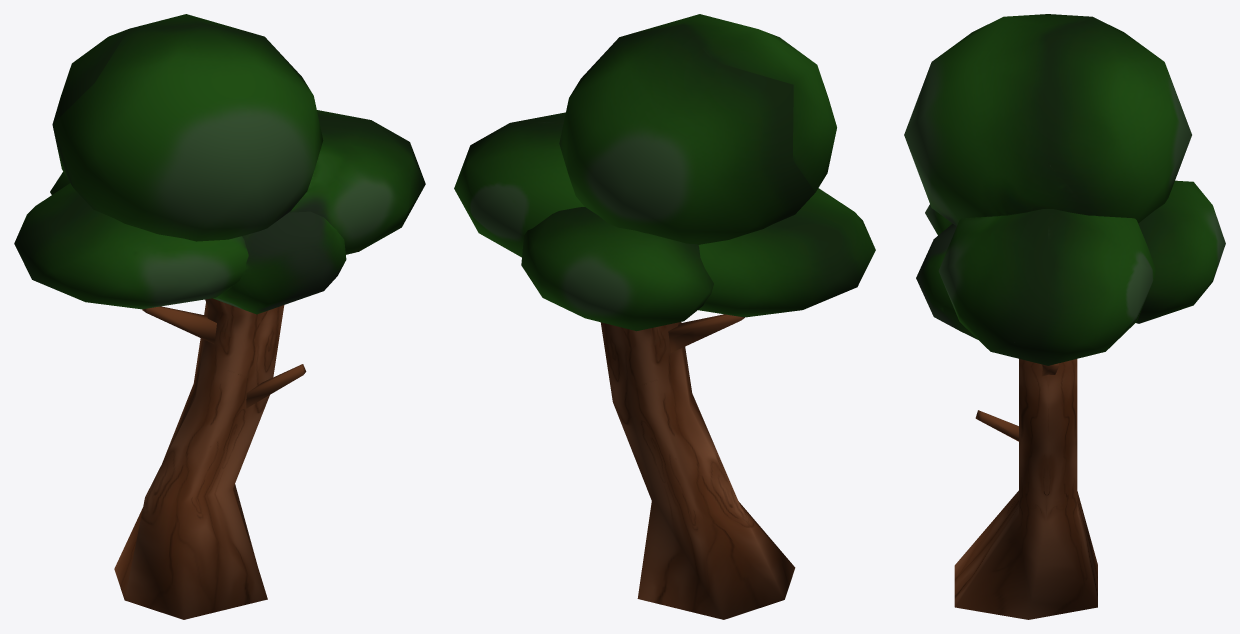
File: CityKit2.fbx_SmallTree.fbx
The picture shows the model from 3 angles, left to right: view 1: azimuth 30°, elevation 25°; view 2: azimuth 150°, elevation 25°; view 3: azimuth 270°, elevation 25°; orthographic projection. The views are drawn at different scales.
Visible parts, largest first — view 1: SmallTree; view 2: SmallTree; view 3: SmallTree.
Boxes of the visible parts, x1=… form: SmallTree: x1=14, y1=14, x2=425, y2=619; SmallTree: x1=454, y1=14, x2=875, y2=619; SmallTree: x1=904, y1=14, x2=1225, y2=619.
Bounding box in the file's own units: 786 × 1085 × 564.
1 material, 1 textured.
